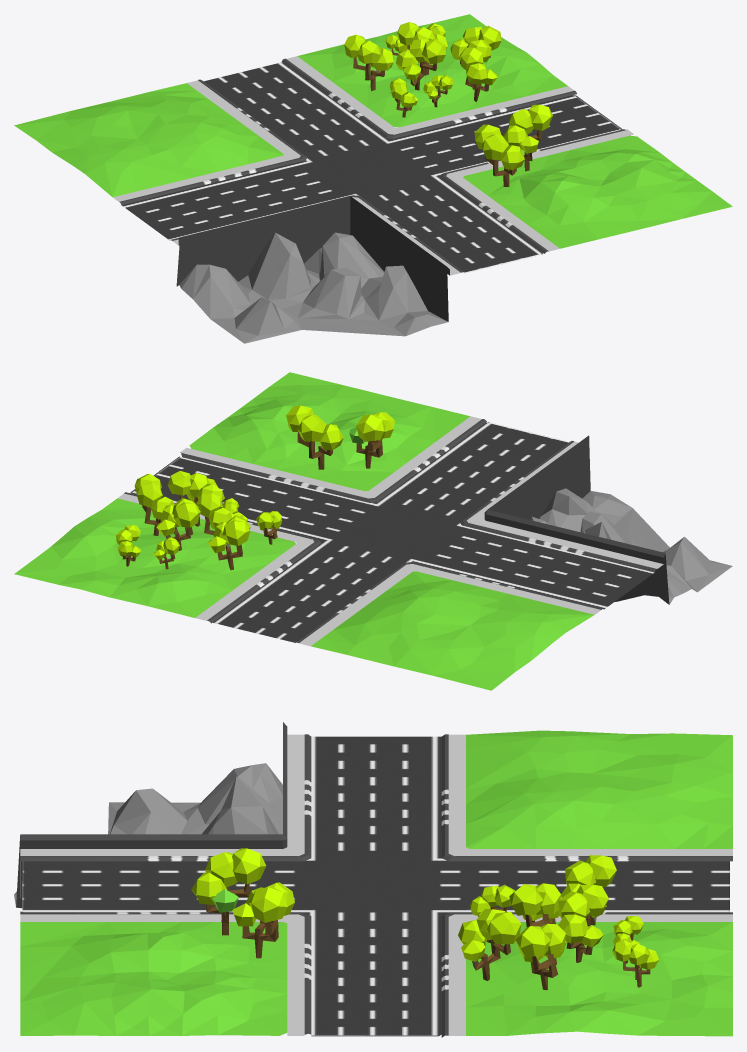
File: map7.fbx
The picture shows the model from 3 angles, top to bottom: view 1: azimuth 30°, elevation 25°; view 2: azimuth 150°, elevation 25°; view 3: azimuth 270°, elevation 25°; orthographic projection. The views are drawn at different scales.
Parts seen in each view (by area): view 1: Circle.002; view 2: Circle.002; view 3: Circle.002.
Boxes of the visible parts, x1,y1,x2,y2 form: Circle.002: (14, 14, 732, 343); Circle.002: (14, 372, 732, 690); Circle.002: (14, 722, 732, 1037).
Bounding box in the file's own units: 8128 × 2103 × 8070.
